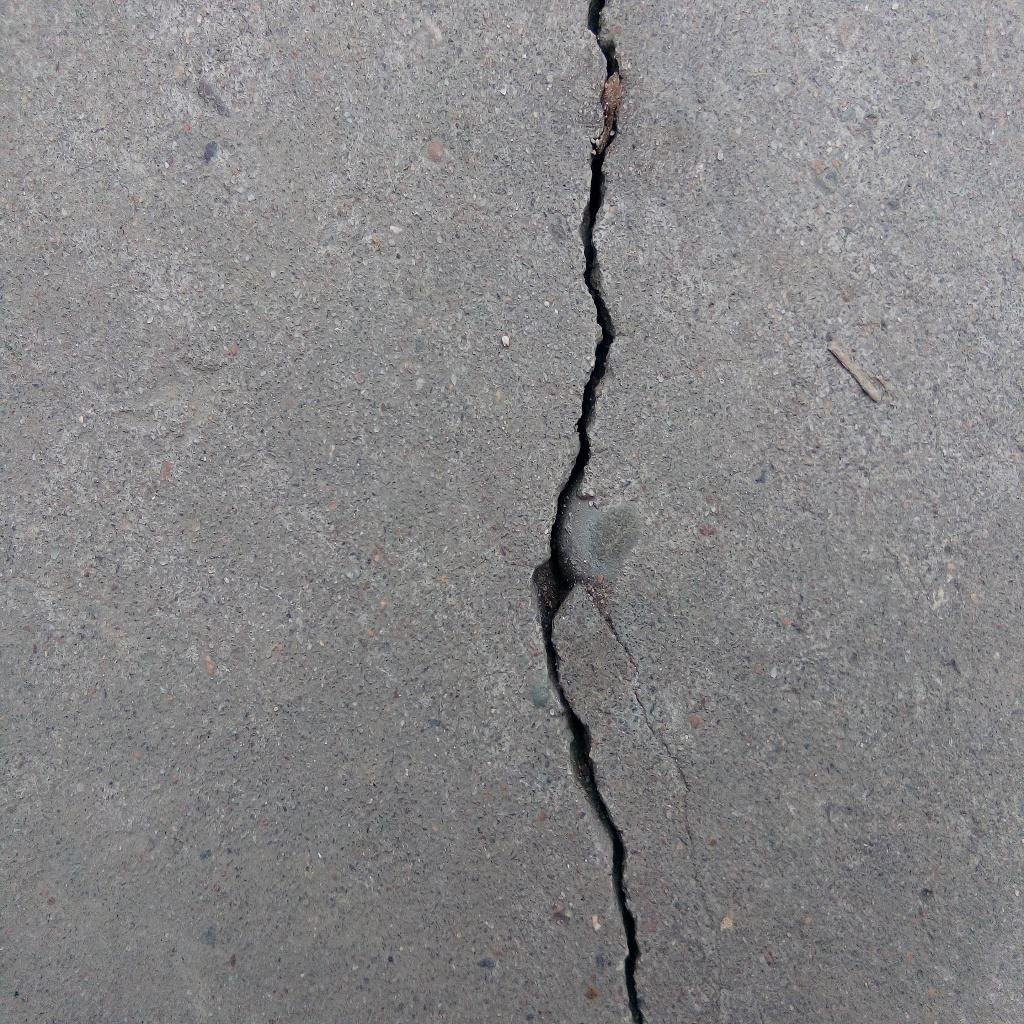Crack: (528, 1, 646, 1024), (581, 580, 715, 930)
